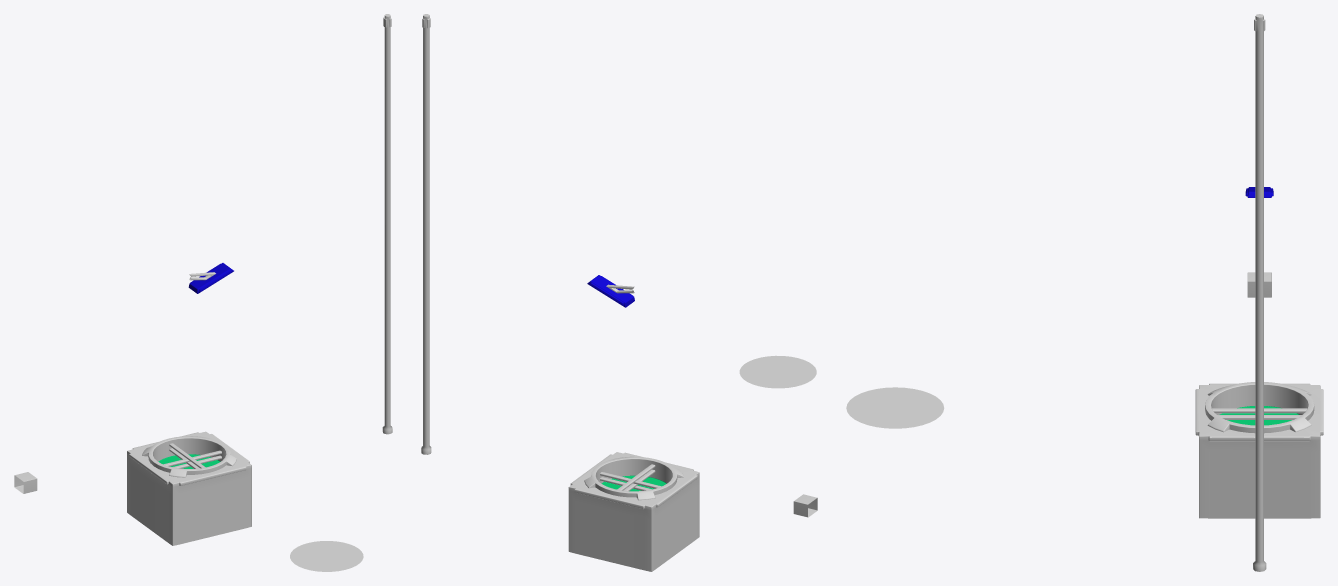
Rendered from LampPost.fbx.
The picture shows the model from 3 angles, left to right: view 1: azimuth 30°, elevation 25°; view 2: azimuth 150°, elevation 25°; view 3: azimuth 270°, elevation 25°; orthographic projection. The views are drawn at different scales.
Visible parts, largest first — view 1: Cube.003, Post.001, Cylinder.003, Cylinder.001, postlamp.001, Cube.002; view 2: Cube.003, Post.001, Cylinder.003, Cylinder.001, postlamp.001, Cube.002; view 3: Cube.003, Post.001, Cylinder.003, Cylinder.001, Cube.002.
Part boxes in pixels (x1,y1,x2,y2): Cube.003: (127, 431, 251, 545); Post.001: (382, 14, 392, 434); Cylinder.003: (142, 436, 236, 477); Cylinder.001: (290, 541, 363, 571); postlamp.001: (188, 263, 233, 293); Cube.002: (163, 443, 221, 468); Cube.003: (568, 452, 699, 571); Post.001: (421, 14, 431, 454); Cylinder.003: (584, 456, 683, 500); Cylinder.001: (739, 355, 816, 388); postlamp.001: (587, 275, 634, 307); Cube.002: (600, 464, 661, 490); Cube.003: (1195, 383, 1323, 518); Post.001: (1253, 14, 1266, 571); Cylinder.003: (1205, 382, 1314, 433); Cylinder.001: (846, 387, 944, 428); Cube.002: (1212, 408, 1307, 419).
Bounding box in the file's own units: 941 × 1100 × 786.
